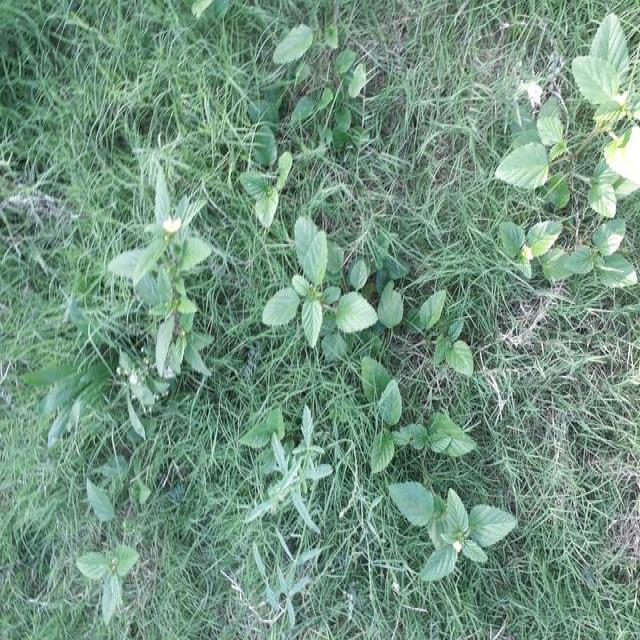weed: (568, 39, 640, 283), (116, 214, 212, 377), (66, 475, 146, 625), (362, 368, 473, 466), (508, 130, 640, 208), (398, 490, 508, 580), (272, 236, 366, 340), (284, 30, 371, 127), (268, 426, 331, 555), (242, 122, 306, 234)
